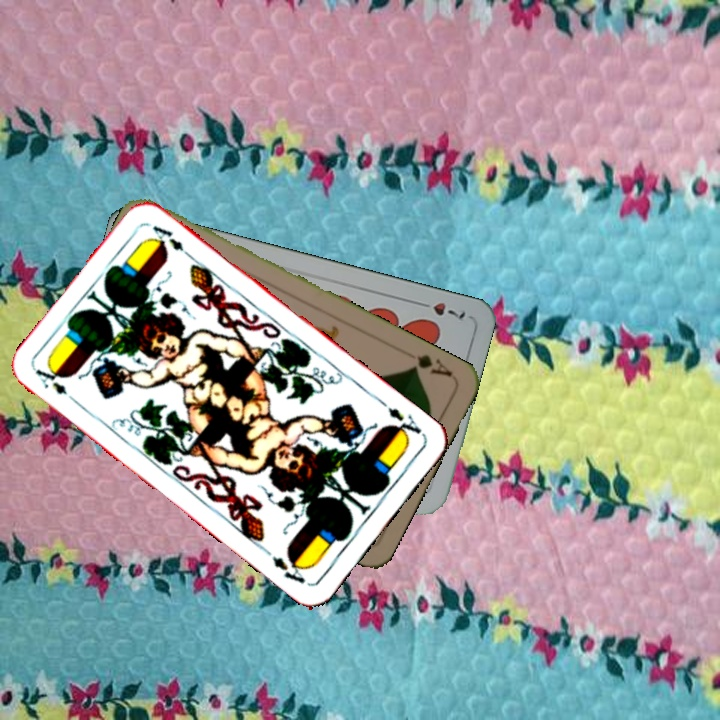EA: (383, 403, 426, 442), (31, 362, 70, 397)
GA: (406, 350, 456, 380)
H7: (412, 297, 468, 322)
